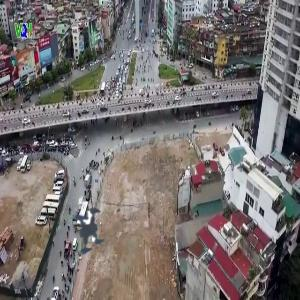drone: (43, 185, 135, 277)
